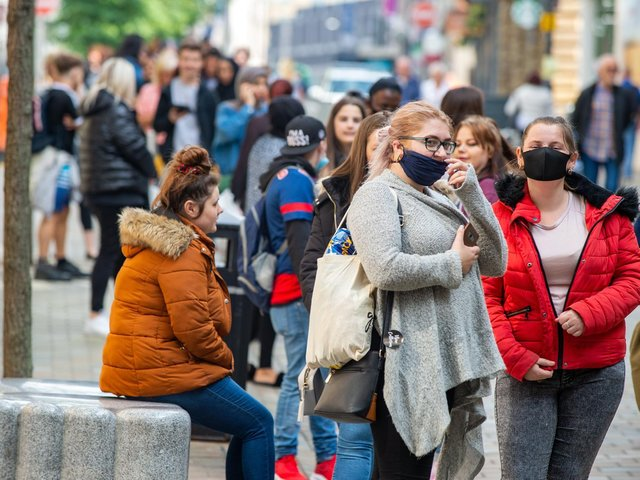with_incorrect_mask: (403, 123, 451, 190), (525, 128, 571, 187)
without_mask: (456, 124, 488, 169), (202, 191, 223, 234), (338, 104, 362, 141)
